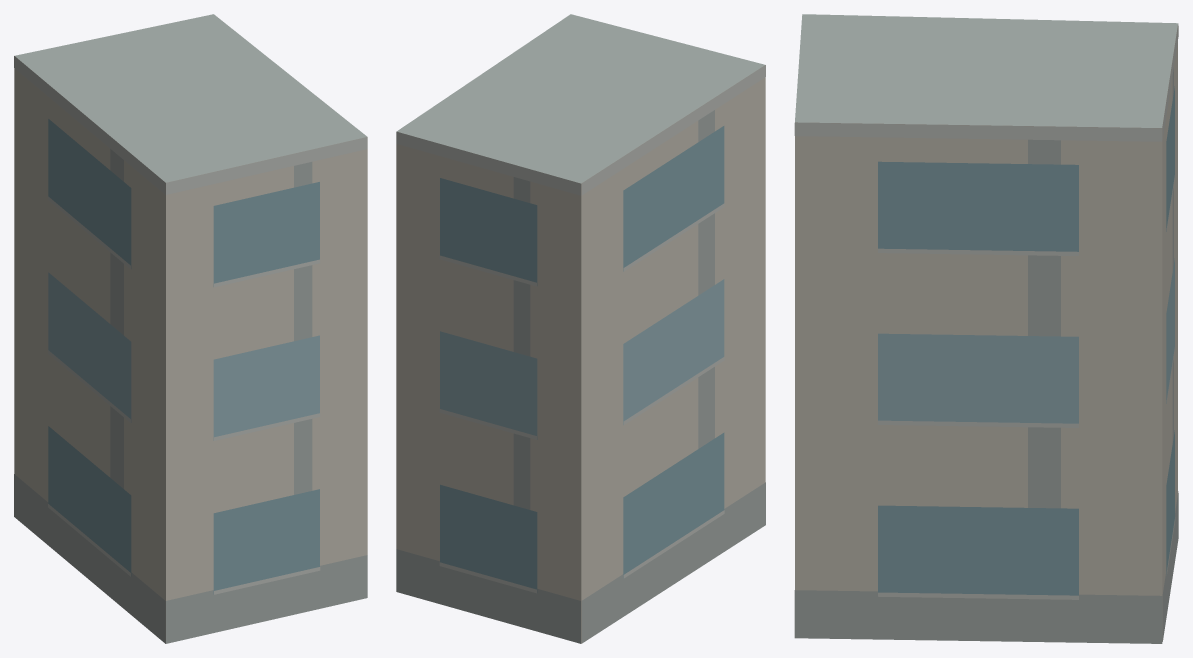
File: survey-upis-32542896.glb
3 views of the same model, side by side, from view 1: azimuth 30°, elevation 25°; view 2: azimuth 150°, elevation 25°; view 3: azimuth 270°, elevation 25° (orthographic). The views are drawn at different scales.
Visible parts, largest first — view 1: survey-upis-32542896.tmp; view 2: survey-upis-32542896.tmp; view 3: survey-upis-32542896.tmp.
Boxes of the visible parts, <box> form: survey-upis-32542896.tmp: <box>14,14,367,643</box>; survey-upis-32542896.tmp: <box>396,14,765,643</box>; survey-upis-32542896.tmp: <box>794,14,1178,643</box>.
Size of the model in its own units: 4.35 by 9.15 by 6.18.
